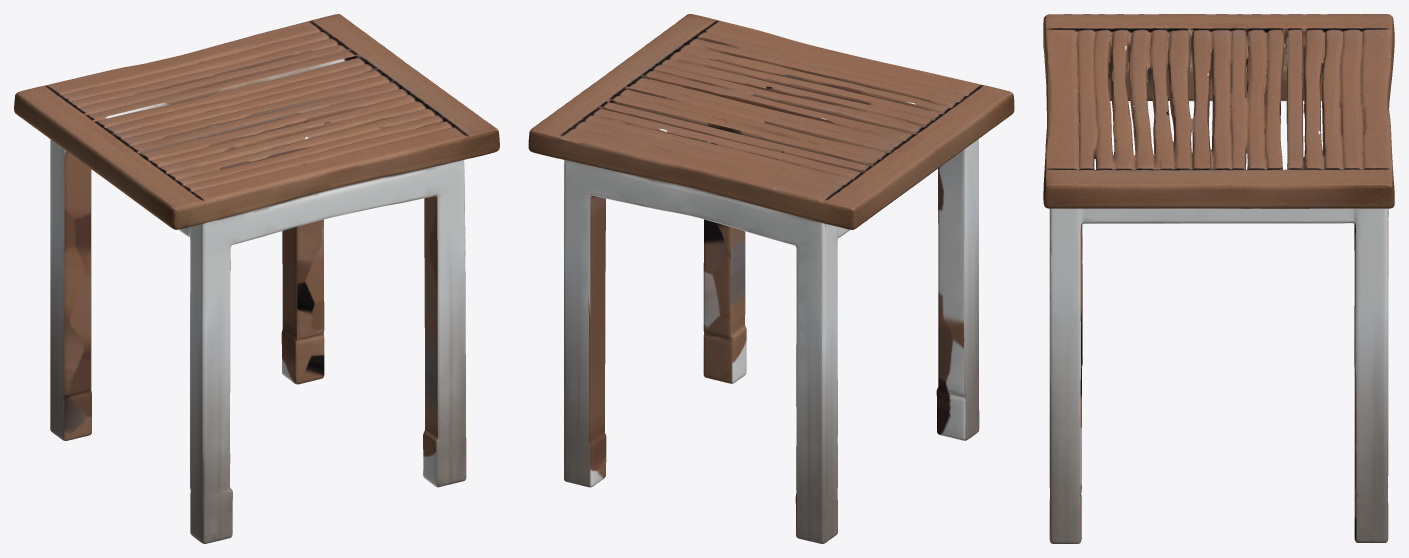
Rendered from table__table#4.glb.
3 views of the same model, side by side, from view 1: azimuth 30°, elevation 25°; view 2: azimuth 150°, elevation 25°; view 3: azimuth 270°, elevation 25° (orthographic). The views are drawn at different scales.
Parts seen in each view (by area): view 1: tmp4u1sju3d.ply; view 2: tmp4u1sju3d.ply; view 3: tmp4u1sju3d.ply.
Boxes of the visible parts, x1,y1,x2,y2 form: tmp4u1sju3d.ply: (14, 14, 499, 543); tmp4u1sju3d.ply: (528, 14, 1014, 543); tmp4u1sju3d.ply: (1043, 14, 1394, 543).
Size of the model in its own units: 1.97 by 1.99 by 1.69.
Materials: 1 (1 with a texture image).
